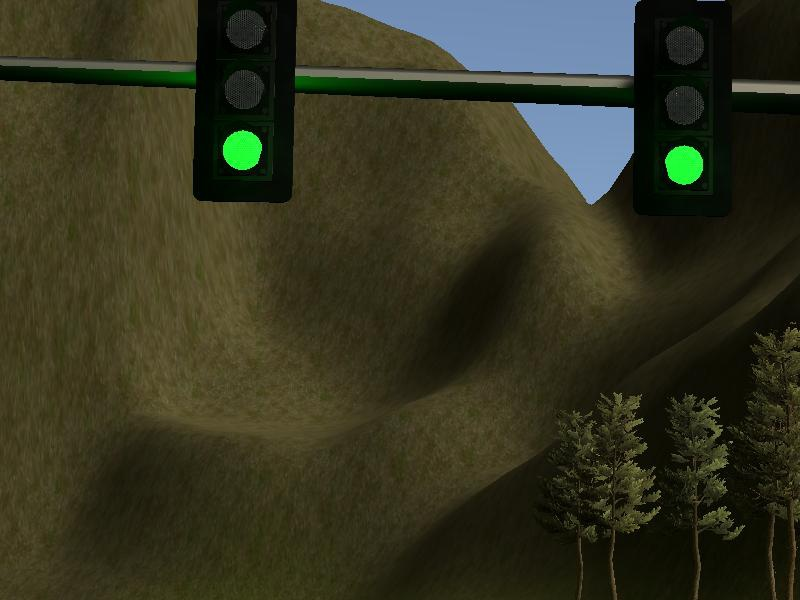Green: (629, 1, 731, 218), (192, 1, 296, 205)
